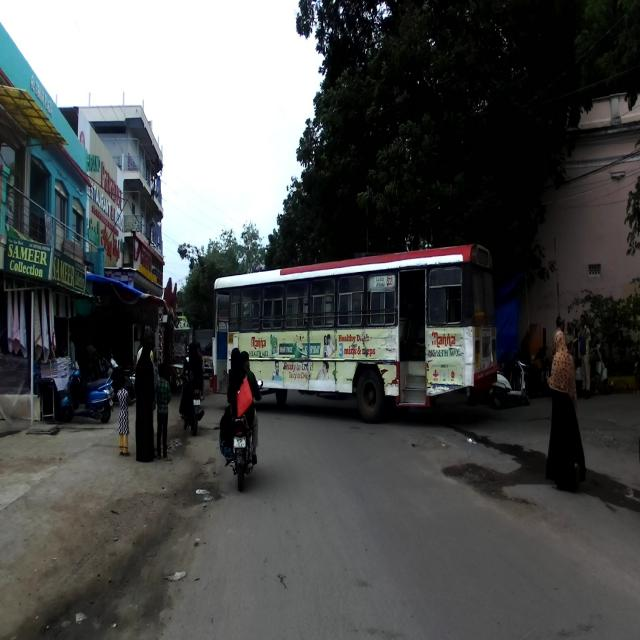bus: (212, 243, 500, 412)
motorcycle_Hero: (224, 378, 264, 493)
motorcycle_bajaj: (178, 370, 205, 437)
scooter: (60, 358, 114, 426)
